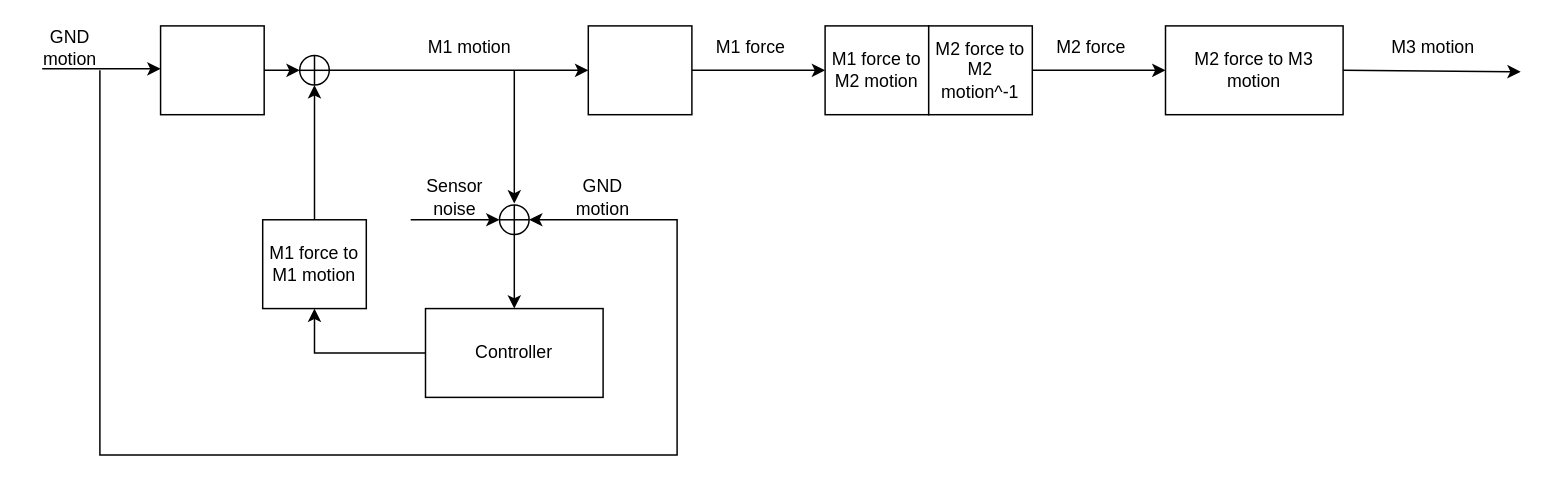
Image size: 1558x493. Some labels were removed from this diagram. The shapes that lost their labels are listed below. From the top down, each one's box as (x1, y1, x2, y2) in pixels, then its label:
(159, 24, 264, 115): Ground motion to M1 motion
(587, 24, 692, 115): M1 force to M1 motion^-1
